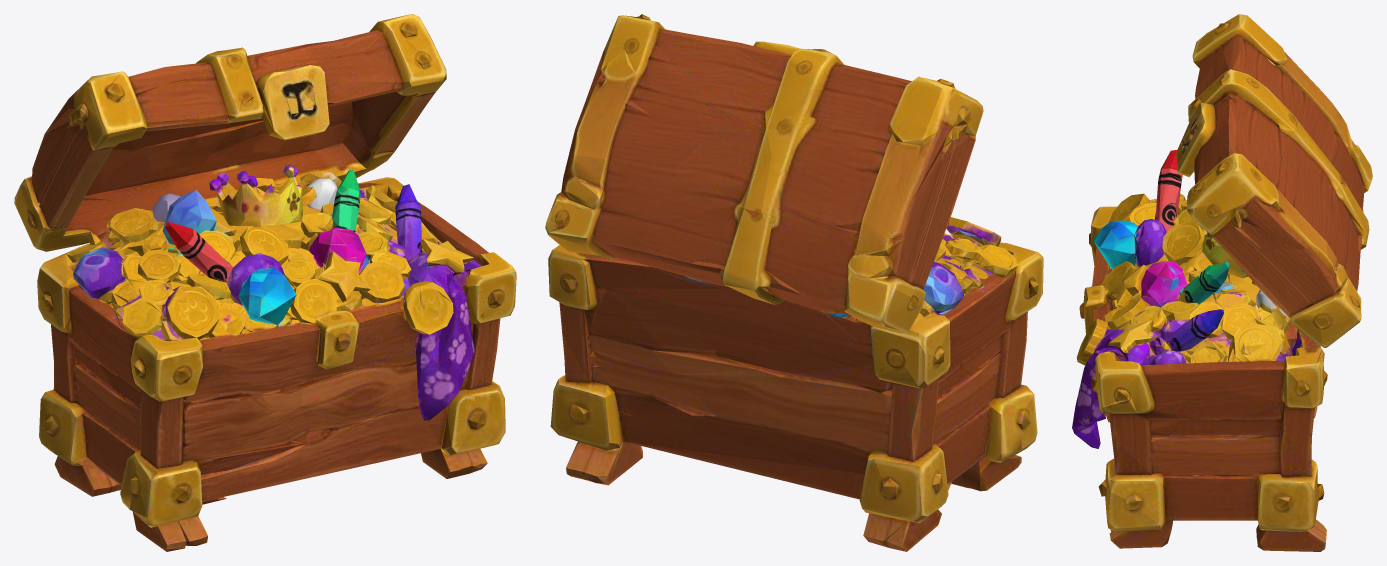
The model's file is chest.glb.
The picture shows the model from 3 angles, left to right: view 1: azimuth 30°, elevation 25°; view 2: azimuth 150°, elevation 25°; view 3: azimuth 270°, elevation 25°; orthographic projection. The views are drawn at different scales.
Parts seen in each view (by area): view 1: output_unwrapped; view 2: output_unwrapped; view 3: output_unwrapped.
Part boxes in pixels (box(x1,y1,x2,y2)): output_unwrapped: box(14, 14, 516, 551); output_unwrapped: box(545, 14, 1043, 551); output_unwrapped: box(1072, 14, 1372, 551).
Size of the model in its own units: 1.74 by 1.9 by 1.32.
1 material, 1 textured.
